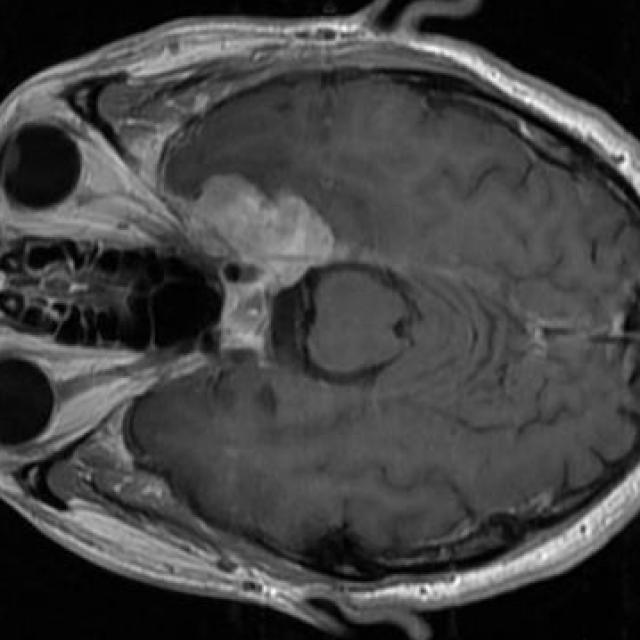meningioma: (189, 175, 335, 291)
